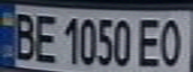0: (112, 16, 136, 69), (78, 15, 96, 66)
1: (57, 12, 81, 65)
5: (96, 15, 115, 66)
B: (9, 9, 39, 62)
E: (133, 15, 166, 69), (30, 10, 60, 64)
O: (154, 15, 187, 69)
